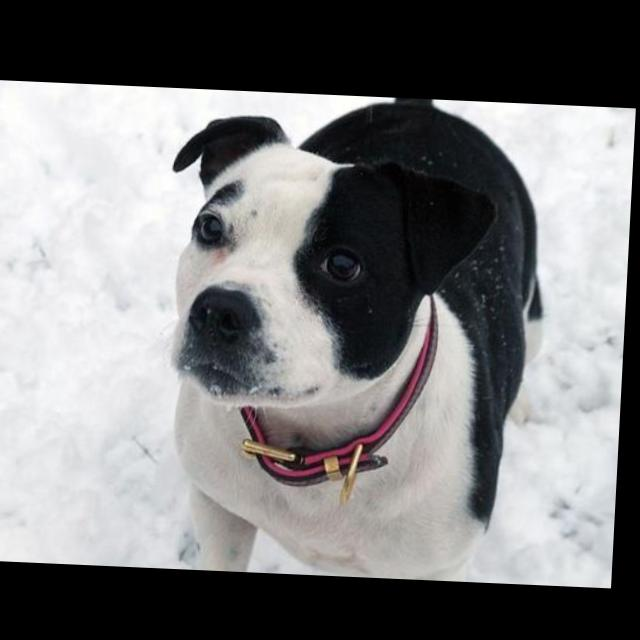staffford: (157, 87, 557, 581)
